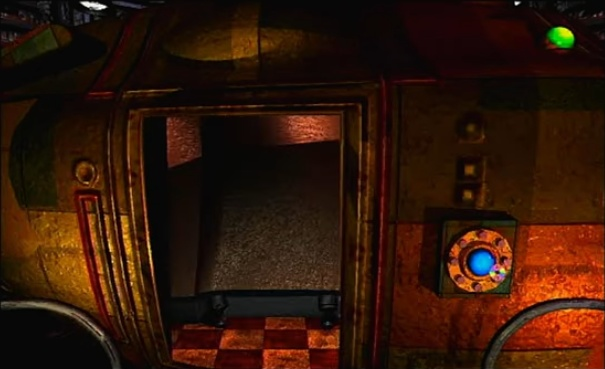Waiting: (484, 261, 512, 285)
